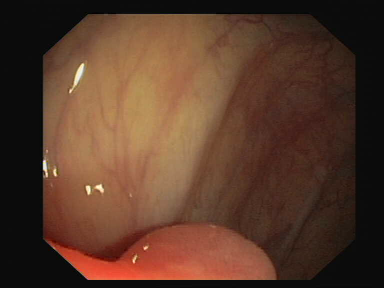polyp: (90, 153, 294, 288)
